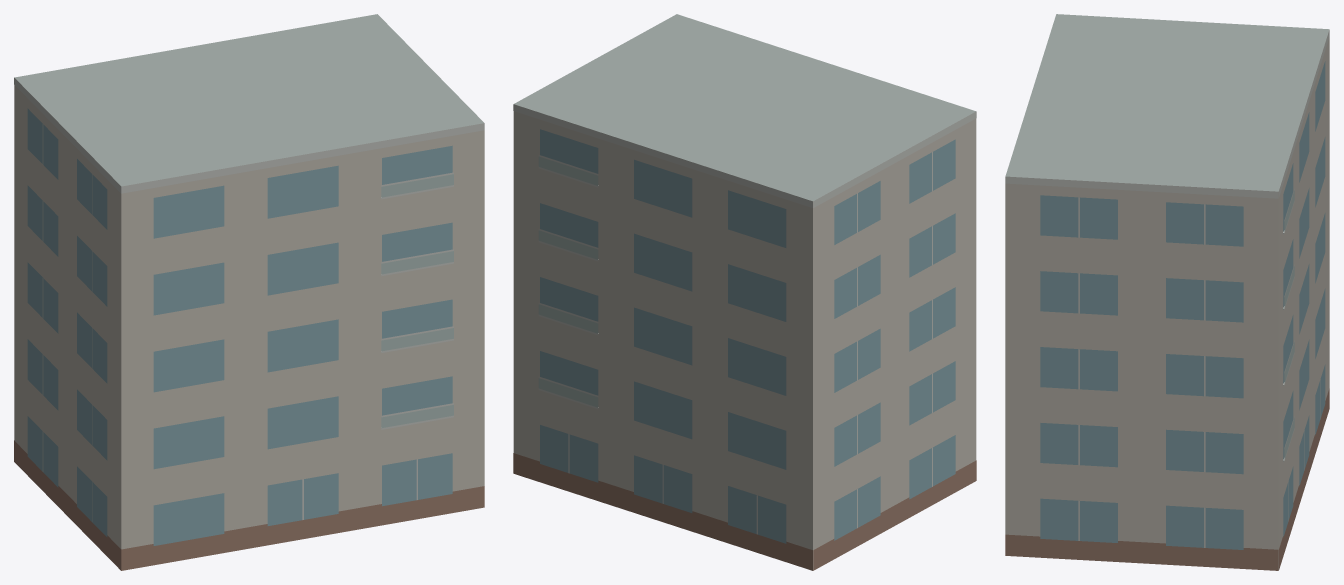
Rendered from survey-upis-32662494.glb.
3 renders of one model, left to right at view 1: azimuth 30°, elevation 25°; view 2: azimuth 150°, elevation 25°; view 3: azimuth 270°, elevation 25°, orthographic. The views are drawn at different scales.
Visible parts, largest first — view 1: survey-upis-32662494.tmp; view 2: survey-upis-32662494.tmp; view 3: survey-upis-32662494.tmp.
Part boxes in pixels (bbox=[...]): survey-upis-32662494.tmp: bbox=[14, 14, 484, 570]; survey-upis-32662494.tmp: bbox=[513, 14, 976, 570]; survey-upis-32662494.tmp: bbox=[1005, 14, 1329, 570].
Bounding box in the file's own units: 13.17 × 13.1 × 10.16.
